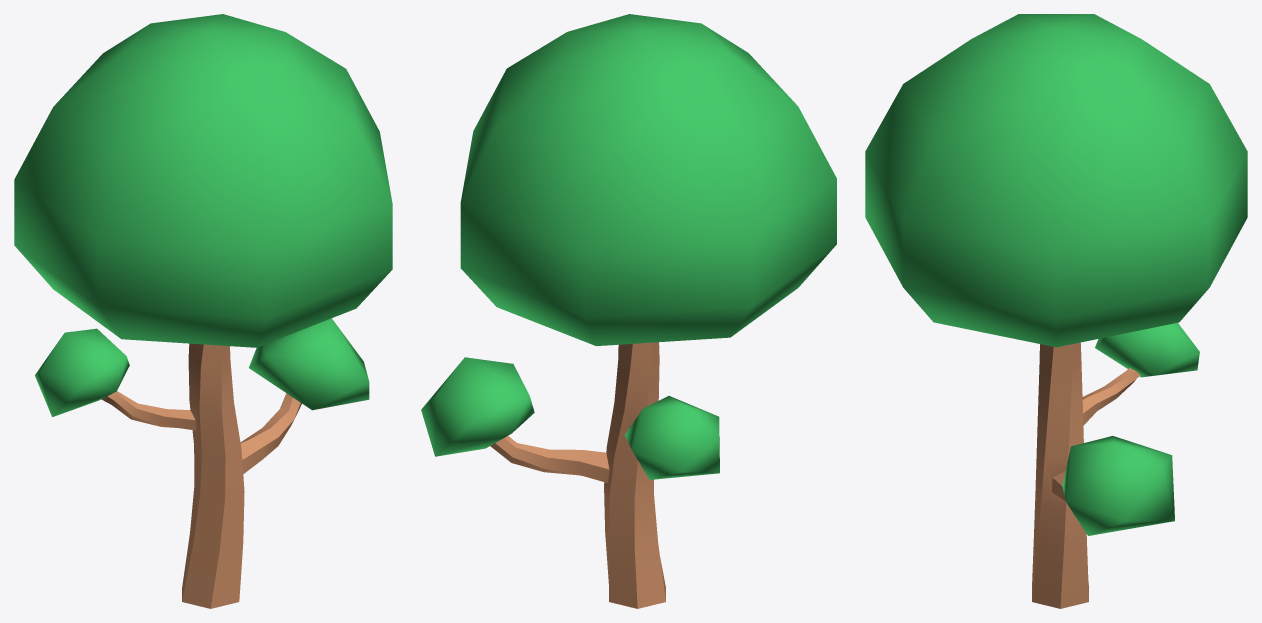
File: Tree.fbx
3 renders of one model, left to right at view 1: azimuth 30°, elevation 25°; view 2: azimuth 150°, elevation 25°; view 3: azimuth 270°, elevation 25°, orthographic.
Parts seen in each view (by area): view 1: polySurface7, TreeTrunk; view 2: polySurface7, TreeTrunk; view 3: polySurface7, TreeTrunk.
Boxes of the visible parts, box(x1,y1,x2,y2) form: polySurface7: box(14, 14, 392, 416); TreeTrunk: box(101, 343, 301, 608); polySurface7: box(421, 14, 836, 479); TreeTrunk: box(490, 342, 665, 608); polySurface7: box(865, 14, 1247, 535); TreeTrunk: box(1032, 342, 1140, 608).
Size of the model in its own units: 703 by 1113 by 683.
